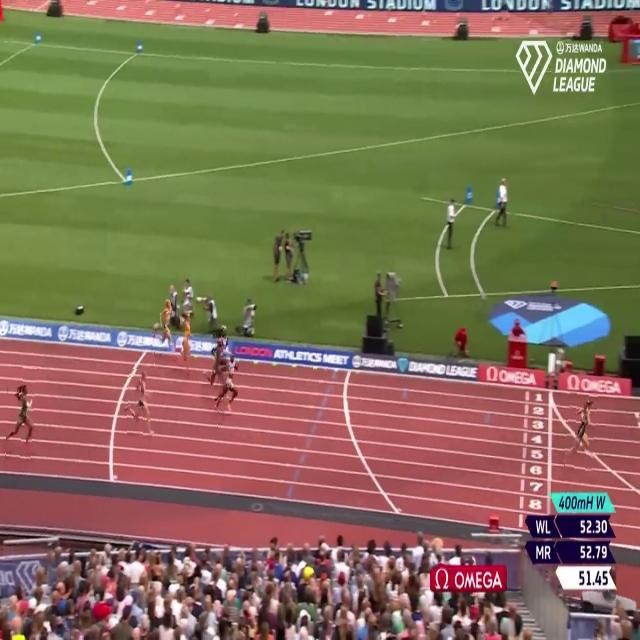athlete: (6, 366, 36, 463), (565, 392, 597, 480), (127, 370, 158, 442), (218, 354, 238, 436), (155, 296, 175, 366), (180, 306, 194, 388), (212, 325, 226, 401)
